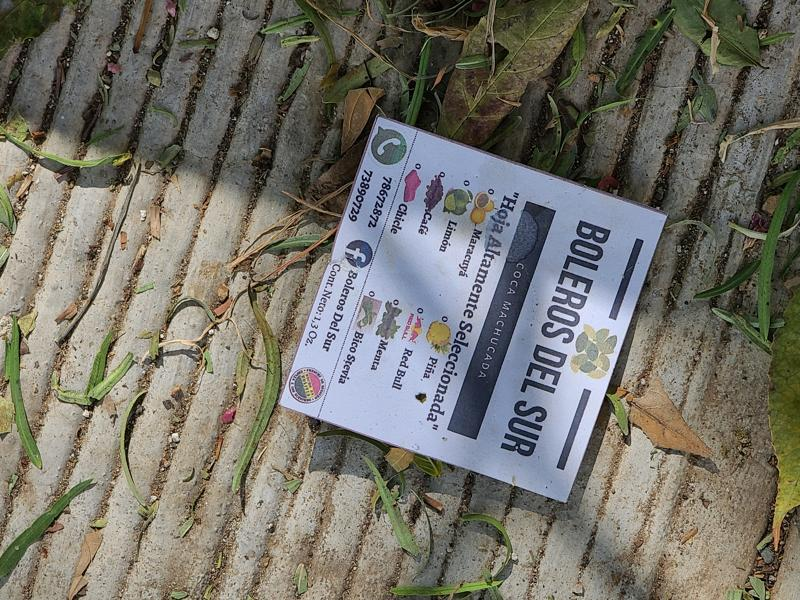papel: (279, 117, 665, 504)
